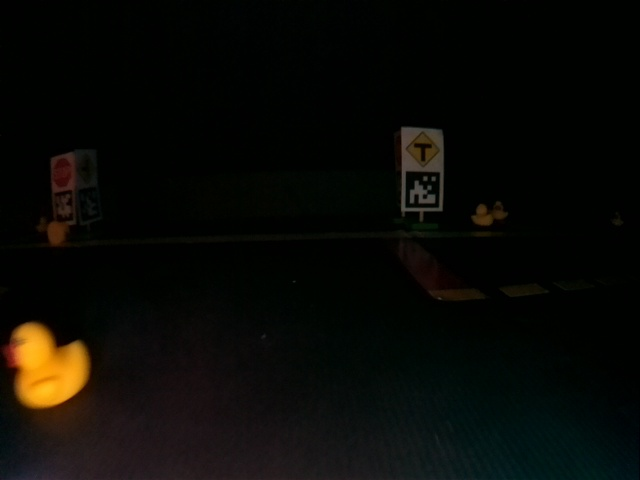Duckie: (4, 323, 91, 402), (47, 221, 63, 245), (472, 206, 493, 224), (495, 202, 505, 220), (613, 212, 623, 222), (40, 218, 48, 228)
Intersection sign: (406, 131, 439, 167), (78, 153, 96, 184)
QR code: (406, 171, 439, 208), (78, 187, 99, 222), (53, 192, 73, 217)
Stop sign: (53, 157, 71, 187)
